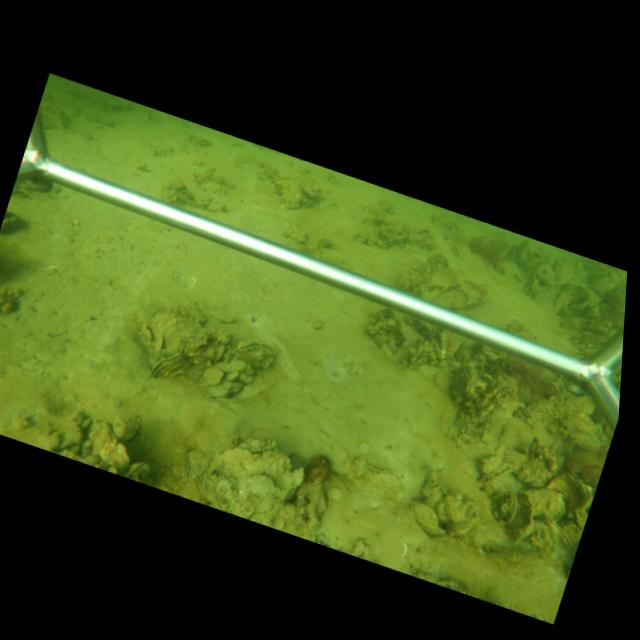Oyster-Closed: (198, 440, 300, 524), (365, 307, 406, 356), (224, 339, 281, 370), (144, 353, 193, 380), (492, 487, 521, 525), (514, 494, 536, 540), (181, 335, 212, 360), (124, 457, 156, 481), (137, 321, 153, 342), (206, 384, 228, 398), (224, 370, 241, 382)
Oyster-Indeterminate: (197, 301, 236, 324), (276, 177, 303, 209), (299, 173, 323, 198)
Oyster-Open: (411, 227, 435, 246)
